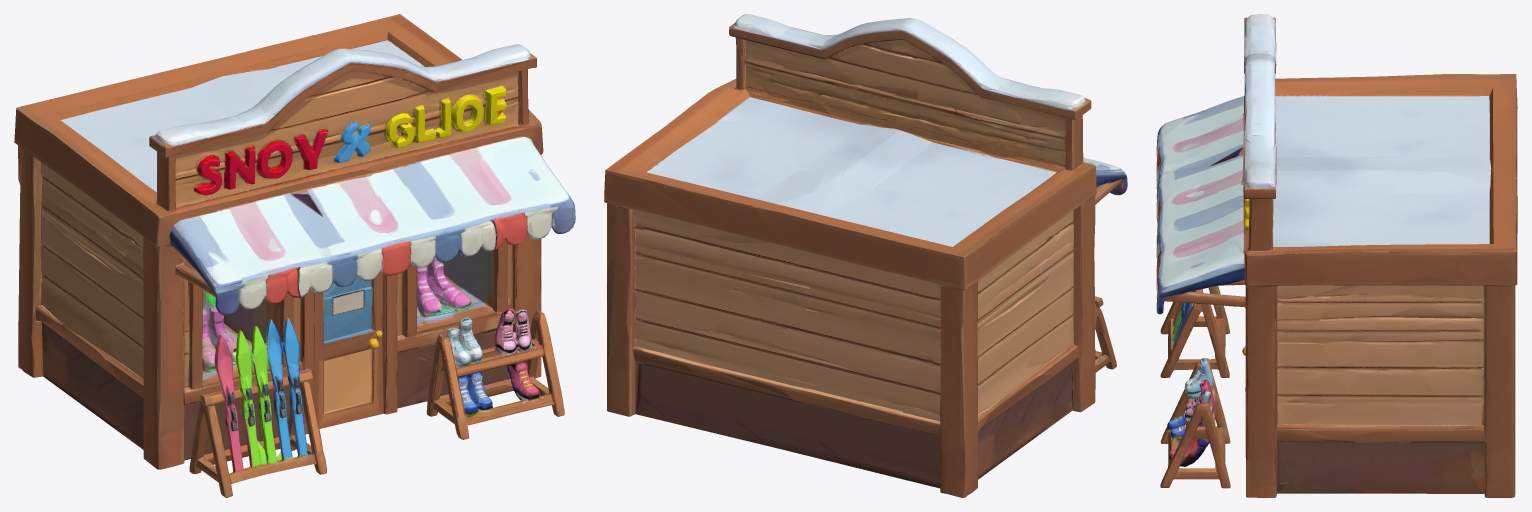
The model's file is skateshop.glb.
The picture shows the model from 3 angles, left to right: view 1: azimuth 30°, elevation 25°; view 2: azimuth 150°, elevation 25°; view 3: azimuth 270°, elevation 25°; orthographic projection. The views are drawn at different scales.
Bounding box in the file's own units: 1.9 × 1.71 × 1.61.
1 material, 1 textured.
